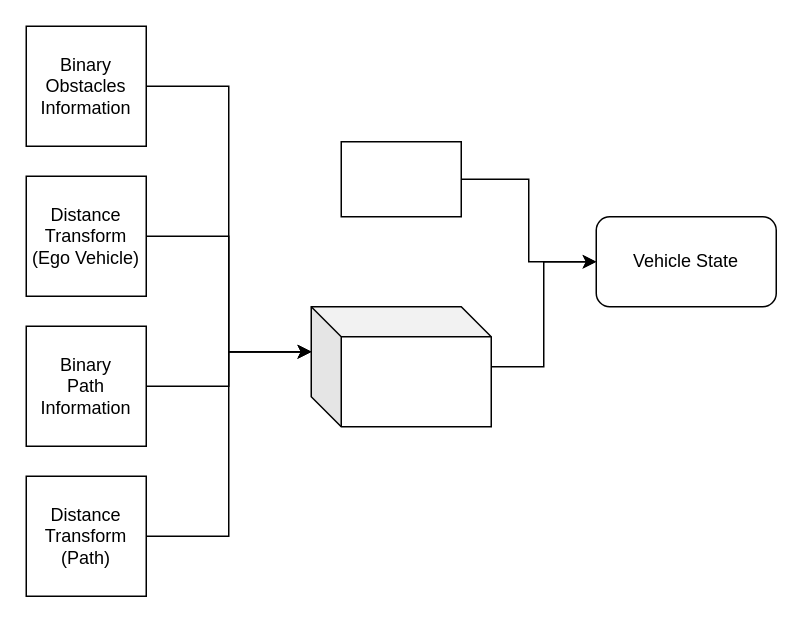
This 803x623 diagram has some shape labels left out. The centre of each missing label's shape, as x and y in pixels:
Channeled Occupancy Grid: (x=400, y=366)
Vehicle Dynamics Vector: (x=400, y=178)
